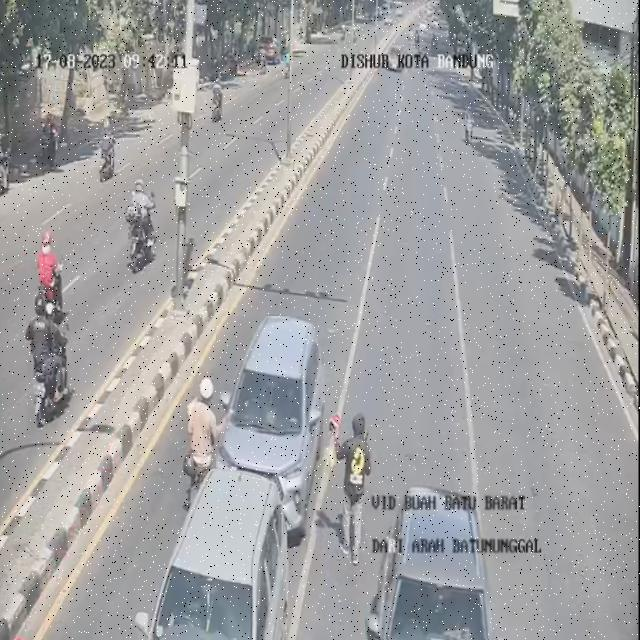motorcycle: (137, 467, 287, 639), (217, 317, 326, 534), (366, 485, 515, 640), (466, 106, 476, 143)
